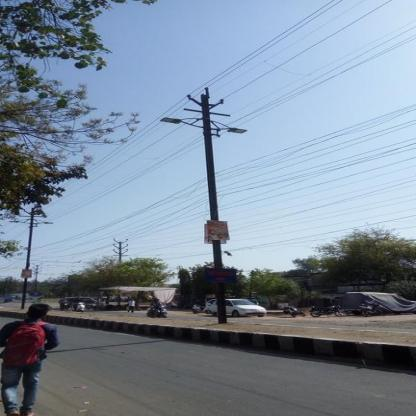Electrical Pole: (162, 79, 271, 327)
